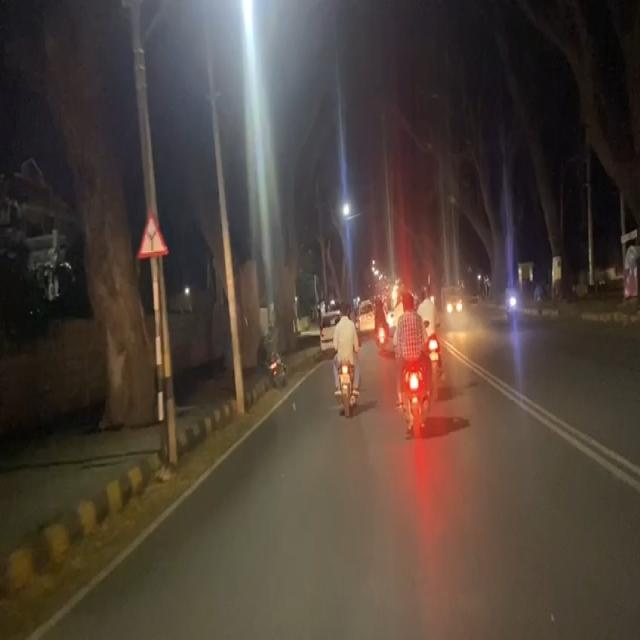bien_nguy_hiem: (135, 209, 170, 260)
